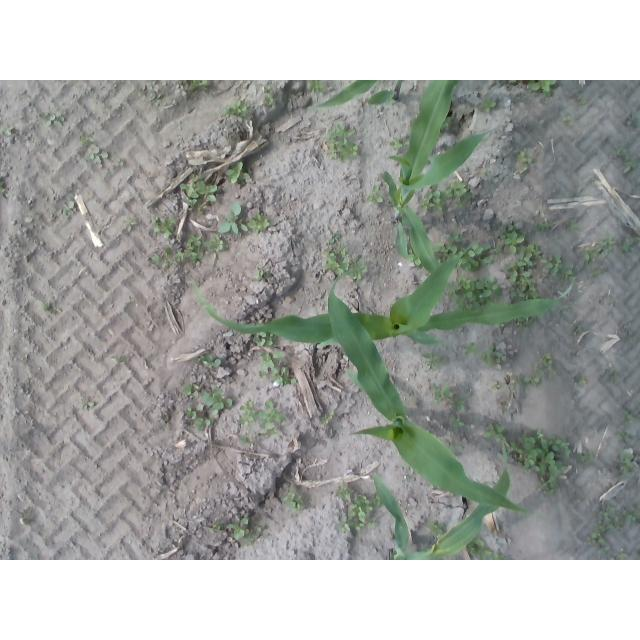Maize: (329, 269, 534, 514), (192, 244, 576, 345), (379, 80, 501, 272), (372, 440, 511, 560), (308, 80, 381, 108), (367, 80, 405, 105)
Weeds: (498, 431, 573, 497), (585, 503, 640, 553), (236, 399, 284, 449), (501, 242, 543, 298), (148, 229, 203, 271), (320, 231, 368, 279), (333, 480, 375, 534), (445, 275, 503, 310), (180, 170, 221, 215), (430, 381, 464, 427), (256, 350, 297, 387), (330, 121, 363, 160), (77, 132, 111, 169), (217, 201, 252, 236), (228, 516, 263, 546), (50, 185, 80, 219), (498, 220, 527, 255), (583, 236, 617, 265), (203, 388, 234, 418), (461, 244, 494, 271), (219, 98, 256, 122), (442, 180, 472, 209), (282, 481, 306, 513), (226, 160, 255, 186), (140, 80, 165, 110), (152, 215, 181, 240), (185, 408, 214, 431), (481, 342, 508, 366), (38, 110, 68, 131), (203, 234, 229, 258), (417, 191, 444, 214), (617, 147, 639, 174), (482, 421, 507, 443), (616, 450, 637, 475), (528, 80, 557, 98), (541, 253, 564, 275), (247, 212, 271, 233), (434, 243, 459, 262), (532, 352, 552, 373), (422, 351, 443, 371), (471, 539, 493, 558), (198, 352, 223, 368), (181, 80, 211, 93), (622, 236, 640, 255), (518, 152, 534, 173), (368, 184, 384, 205), (182, 383, 203, 399), (265, 85, 280, 107), (447, 229, 467, 245), (123, 213, 139, 233), (254, 333, 275, 348), (614, 425, 630, 444), (309, 81, 328, 96), (604, 366, 620, 383), (254, 266, 271, 282), (572, 92, 590, 107), (611, 548, 631, 561), (536, 221, 556, 234), (320, 408, 336, 424), (462, 343, 479, 358), (581, 448, 595, 466), (520, 374, 540, 386), (482, 99, 497, 114), (41, 301, 57, 315), (626, 115, 640, 129), (0, 124, 14, 138), (0, 181, 10, 200), (623, 409, 637, 422), (391, 137, 404, 151), (429, 522, 443, 535), (85, 400, 100, 412), (493, 548, 506, 561), (113, 353, 126, 366), (576, 375, 588, 389), (407, 254, 421, 266), (212, 521, 228, 531), (589, 269, 604, 279), (516, 316, 534, 324), (567, 219, 577, 232), (574, 323, 584, 336), (563, 115, 576, 125), (565, 268, 575, 280), (499, 81, 517, 87), (483, 170, 494, 179), (443, 117, 450, 131), (492, 380, 501, 388)
